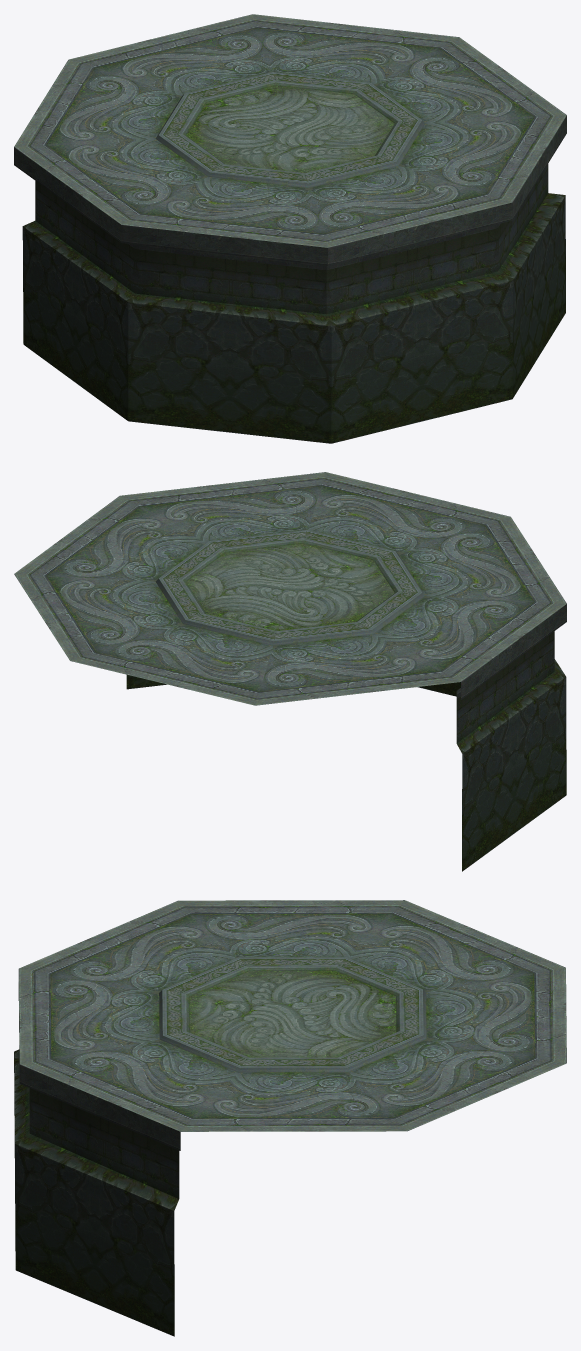
The model's file is zc_erhai_taizi02.FBX.
3 renders of one model, top to bottom at view 1: azimuth 30°, elevation 25°; view 2: azimuth 150°, elevation 25°; view 3: azimuth 270°, elevation 25°, orthographic. The views are drawn at different scales.
Parts seen in each view (by area): view 1: zc_erhai_taizi02; view 2: zc_erhai_taizi02; view 3: zc_erhai_taizi02.
Boxes of the visible parts, <box> form: zc_erhai_taizi02: <box>14,14,566,443</box>; zc_erhai_taizi02: <box>14,472,566,871</box>; zc_erhai_taizi02: <box>14,900,566,1336</box>.
Size of the model in its own units: 742 by 315 by 748.
